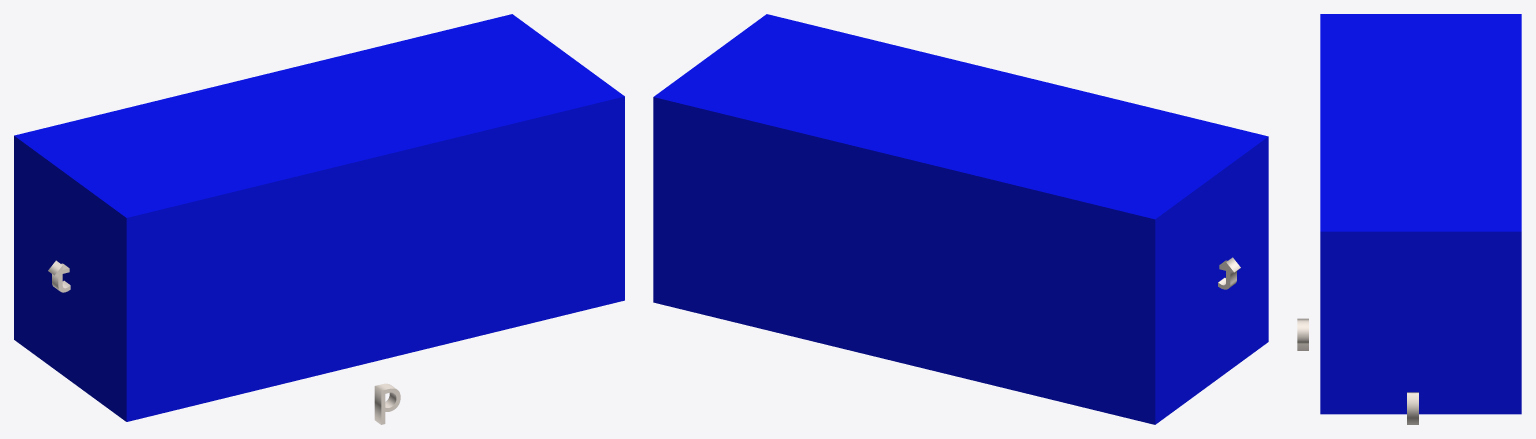
File: 2. Balok.fbx
The picture shows the model from 3 angles, left to right: view 1: azimuth 30°, elevation 25°; view 2: azimuth 150°, elevation 25°; view 3: azimuth 270°, elevation 25°; orthographic projection. The views are drawn at different scales.
Parts seen in each view (by area): view 1: Cube.005, Text.014; view 2: Cube.005; view 3: Cube.005, Text.014, Text.015.
Part boxes in pixels (x1,y1,x2,y2): Cube.005: (14, 14, 624, 421); Text.014: (374, 383, 400, 424); Cube.005: (653, 14, 1268, 424); Cube.005: (1320, 14, 1521, 414); Text.014: (1297, 318, 1308, 350); Text.015: (1407, 392, 1418, 424).
Bounding box in the file's own units: 1168 × 511 × 453.
